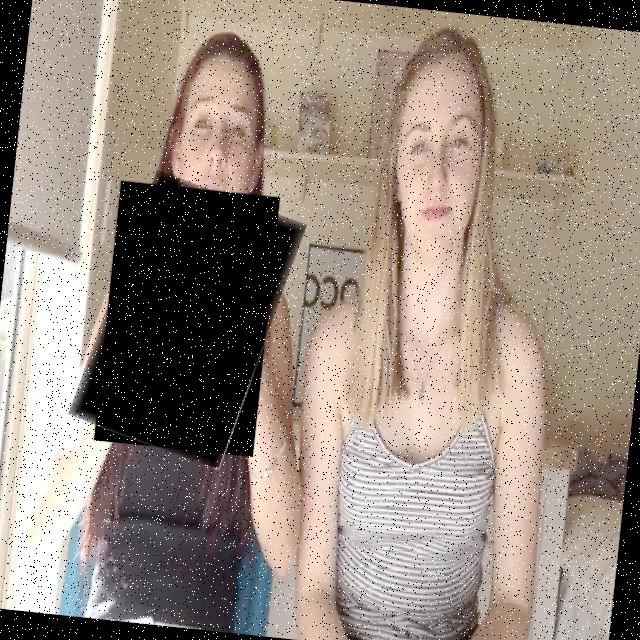T: (79, 172, 296, 467)
